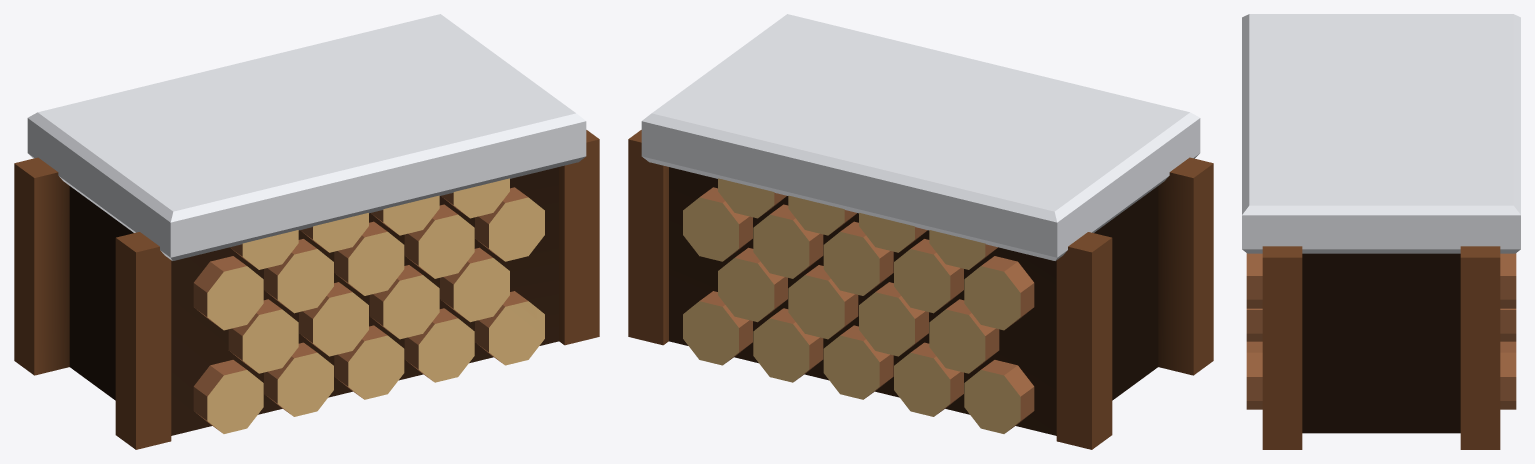
The model's file is log-pile.glb.
3 renders of one model, left to right at view 1: azimuth 30°, elevation 25°; view 2: azimuth 150°, elevation 25°; view 3: azimuth 270°, elevation 25°, orthographic. The views are drawn at different scales.
Parts seen in each view (by area): view 1: log-pile; view 2: log-pile; view 3: log-pile.
Boxes of the visible parts, x1,y1,x2,y2 form: log-pile: (14,14,599,449); log-pile: (628,14,1213,449); log-pile: (1242,14,1520,449).
Bounding box in the file's own units: 2.9 × 1.41 × 1.55.
1 material, 1 textured.
